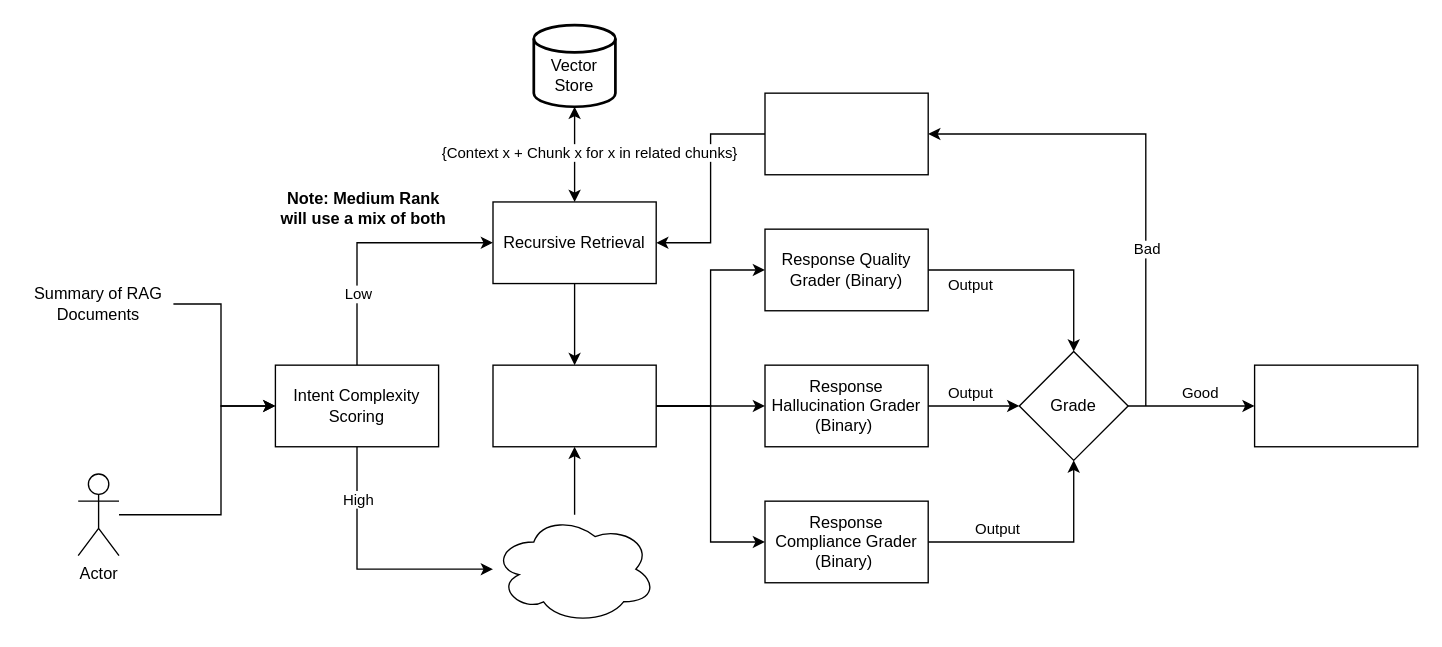
This 1442x647 diagram has some shape labels left out. Here are the shapes that lost their labels. From the top down, the centre of each, then its label:
At pixel 846 133: "RePromper (Update Query)".
At pixel 574 405: "Rank & Rerank".
At pixel 1335 405: "Agentic Operations".
At pixel 574 568: "Web Search".
